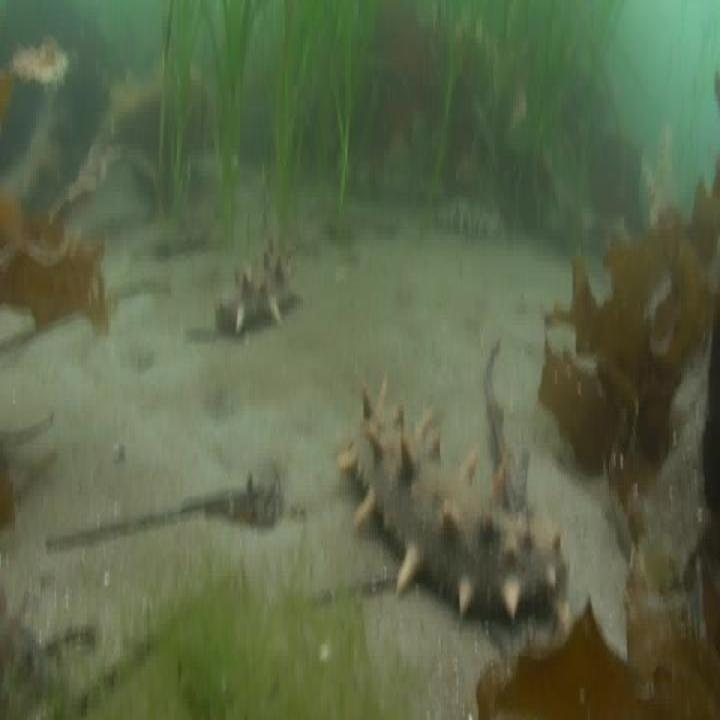holothurian: (341, 373, 570, 628), (217, 240, 303, 340), (442, 197, 504, 236)
